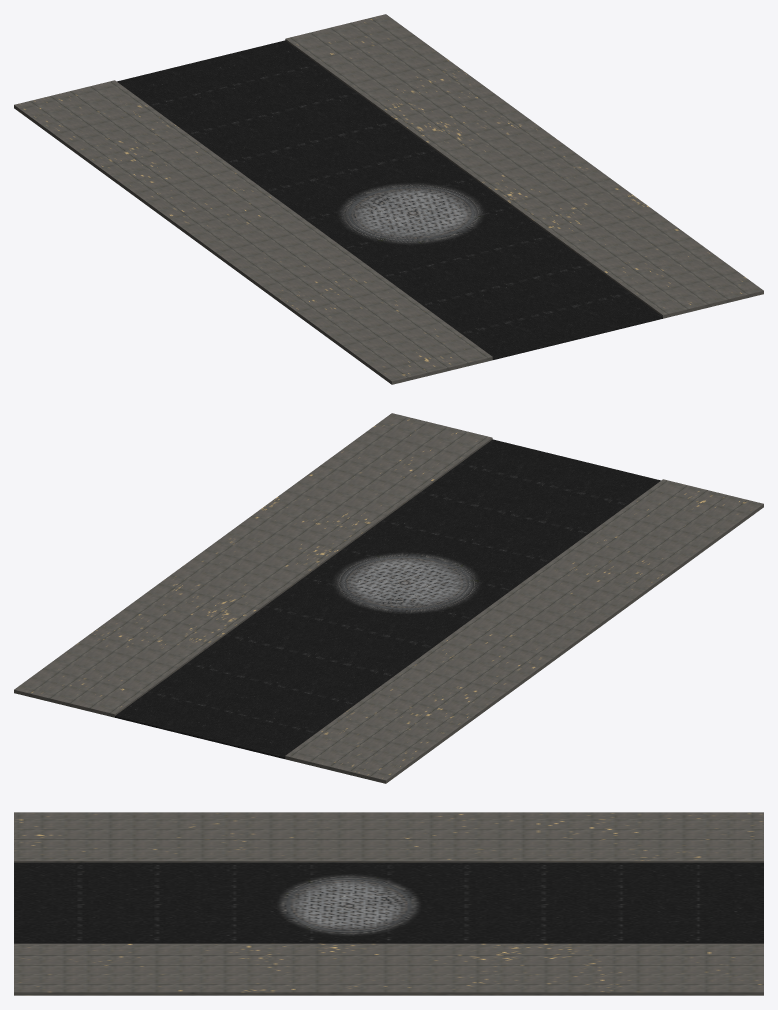
3 renders of one model, top to bottom at view 1: azimuth 30°, elevation 25°; view 2: azimuth 150°, elevation 25°; view 3: azimuth 270°, elevation 25°, orthographic.
Visible parts, largest first — view 1: rua; view 2: rua; view 3: rua.
Boxes of the visible parts, x1,y1,x2,y2 form: rua: (14, 14, 763, 384); rua: (14, 413, 763, 783); rua: (14, 812, 763, 995).
Bounding box in the file's own units: 17.57 × 0.1535 × 30.92.
2 materials, 2 textured.
